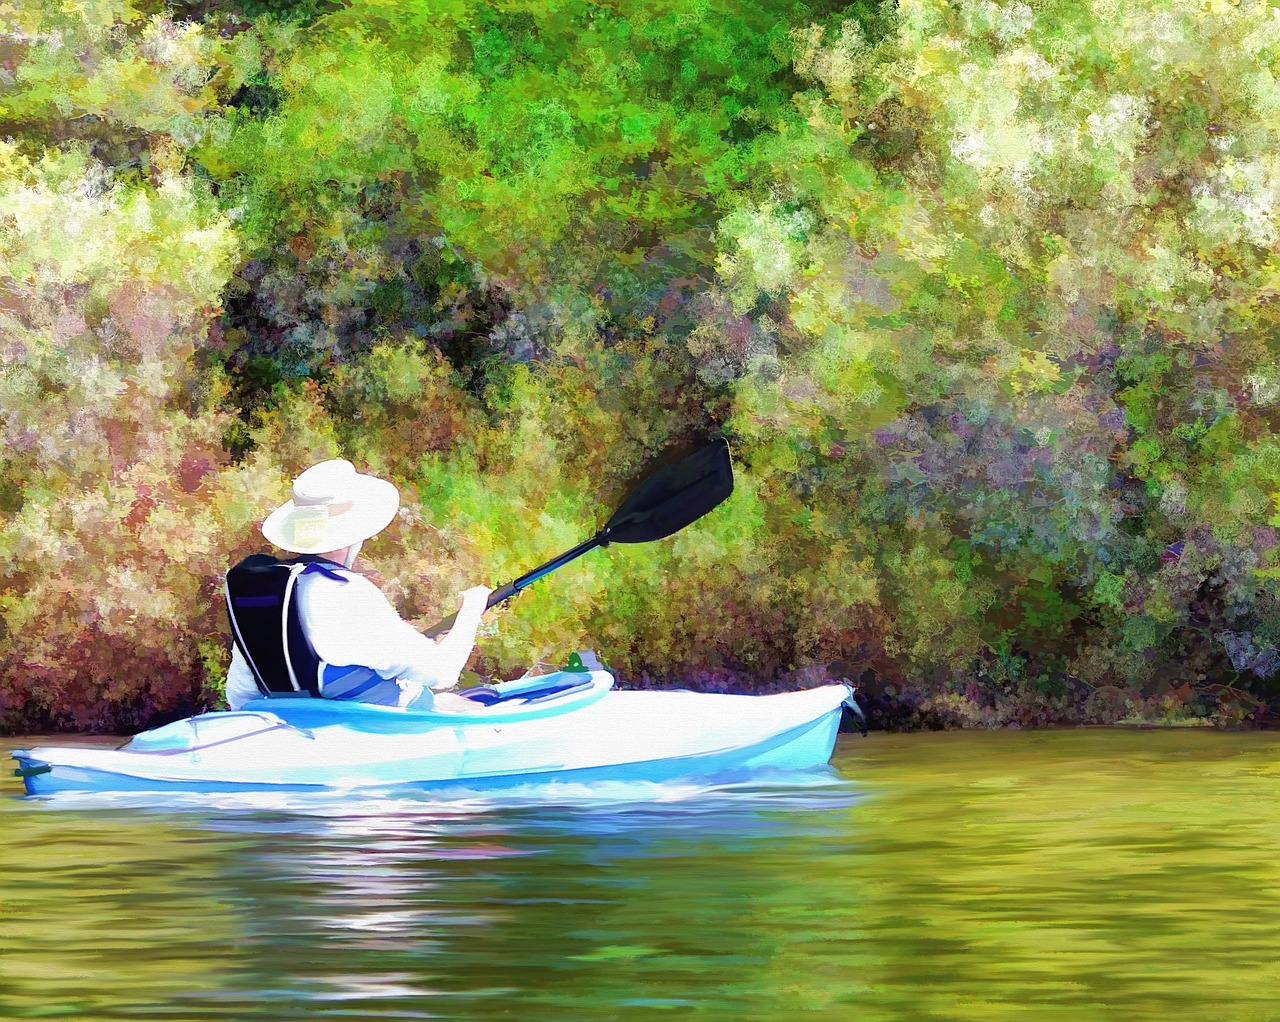kayak: (13, 666, 855, 816)
